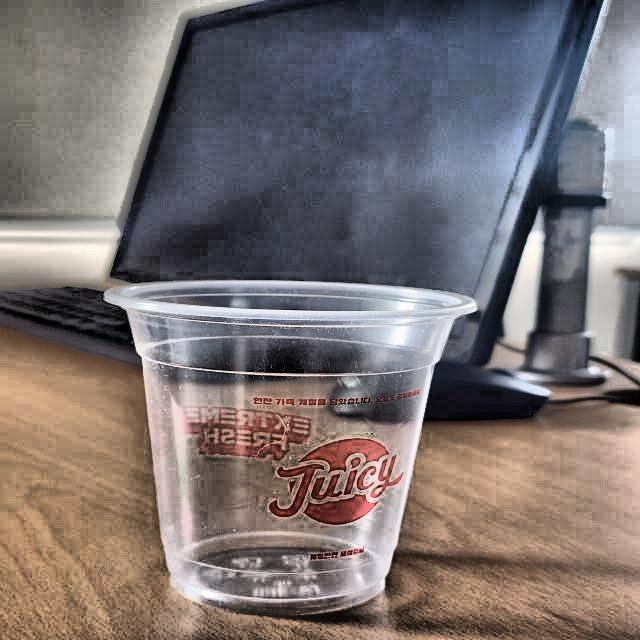plastic cup: (101, 275, 476, 616)
